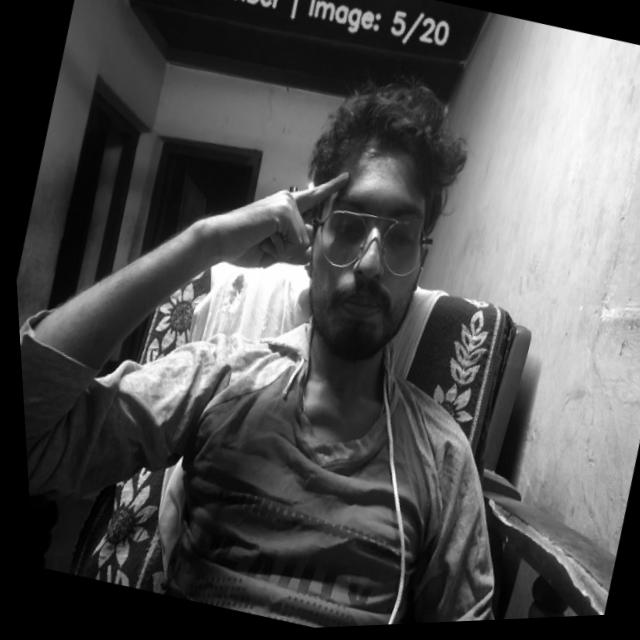Remember: (200, 141, 357, 296)
